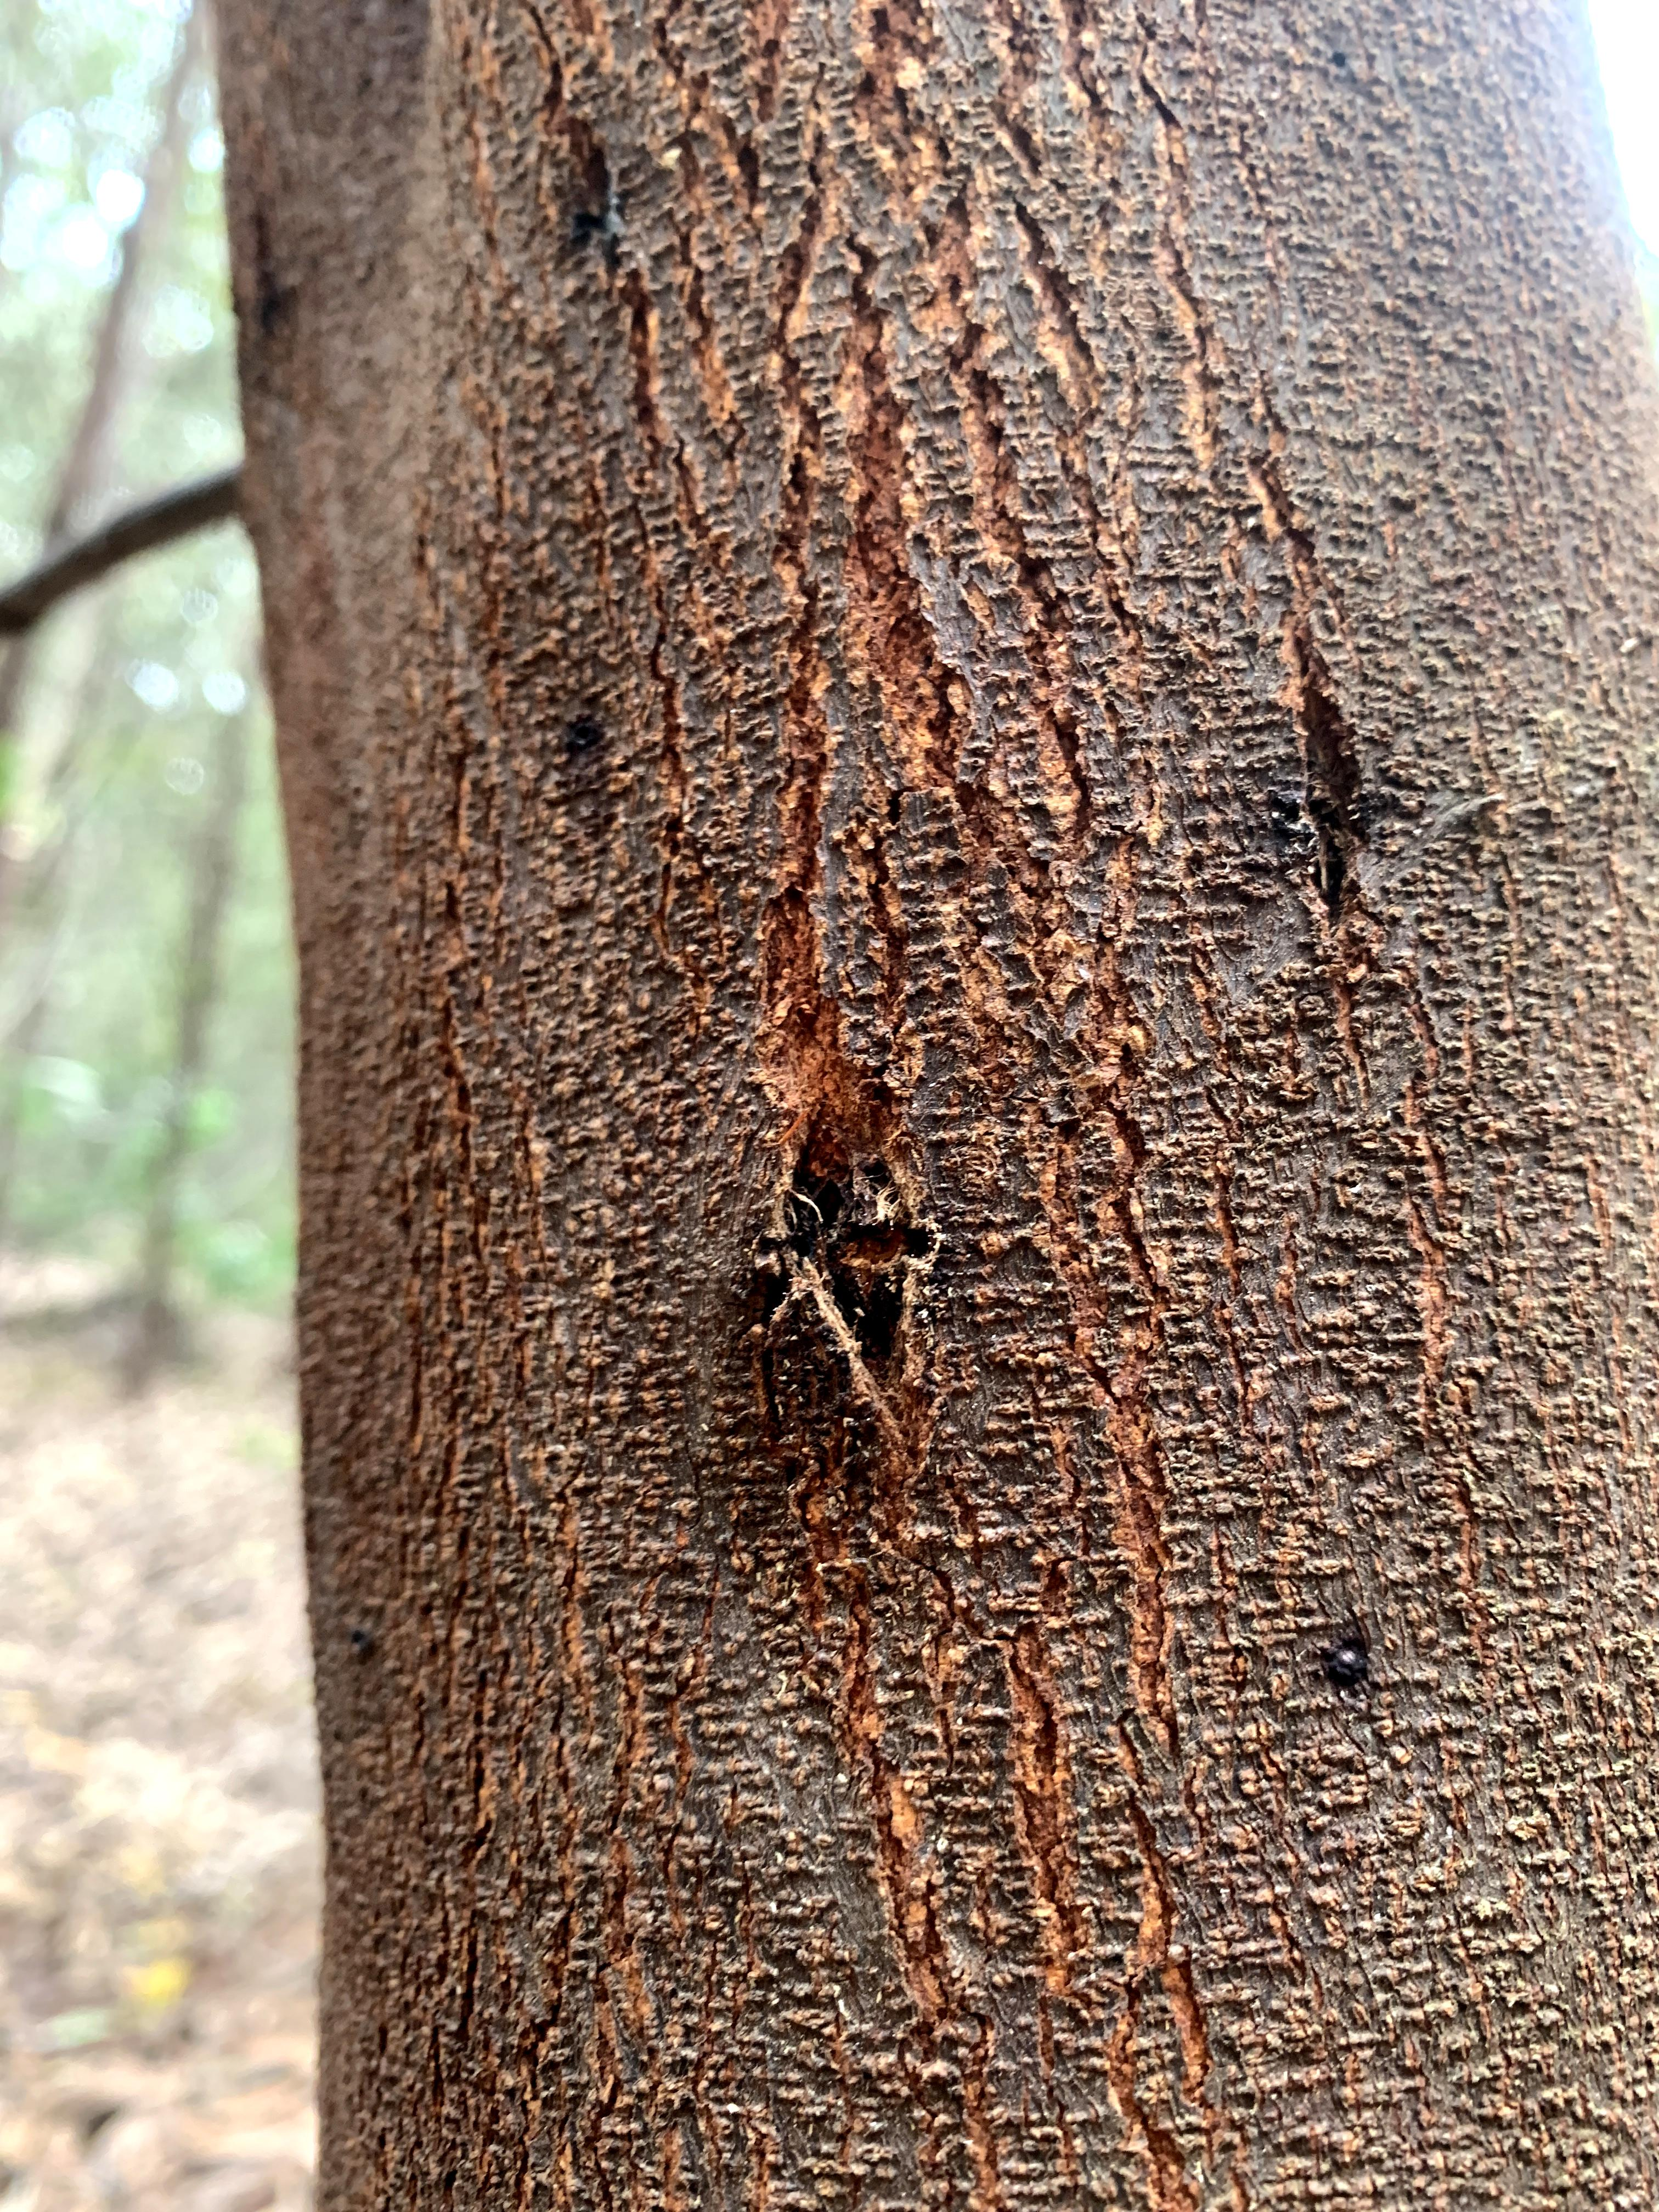Stem Borer: (653, 1049, 1030, 1571), (1213, 615, 1460, 942), (518, 122, 669, 287)
